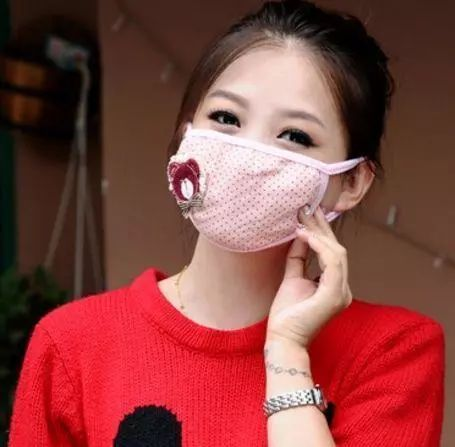mask: (162, 112, 366, 259)
